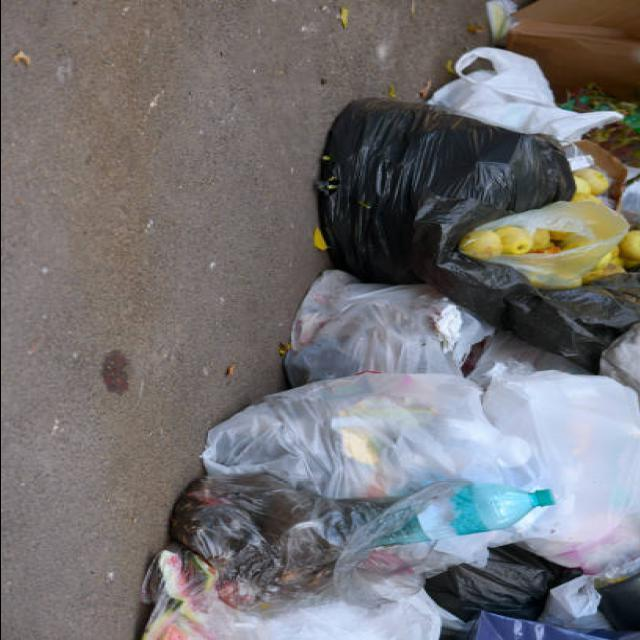Trashbag: (286, 113, 522, 255)
